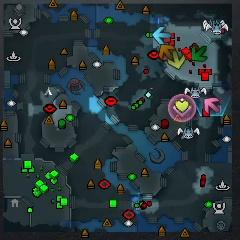Other: (168, 93, 196, 122)
x1: (203, 97, 221, 113)
x2: (168, 51, 185, 69)
x3: (152, 26, 171, 45)
x4: (191, 46, 208, 62)
x5: (159, 44, 174, 61)
